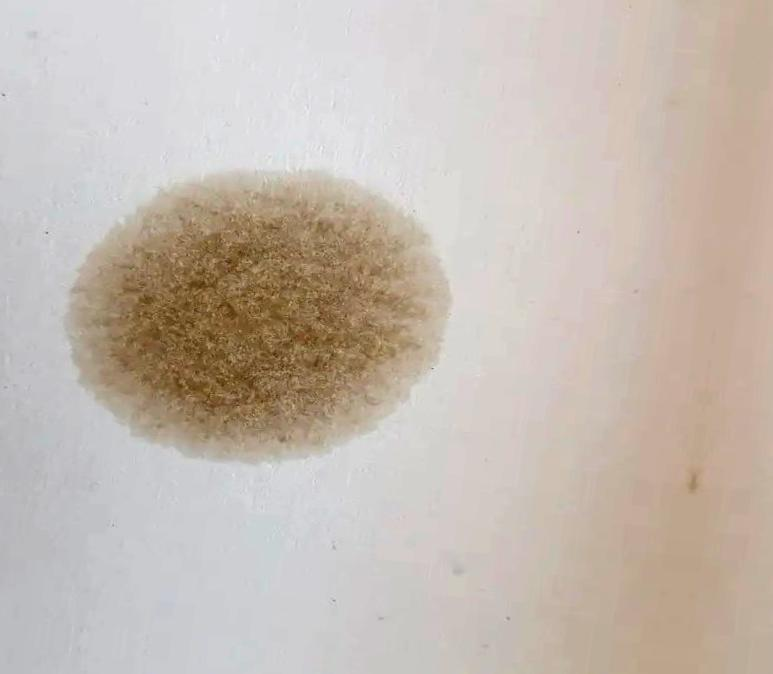stain: (63, 160, 463, 479)
